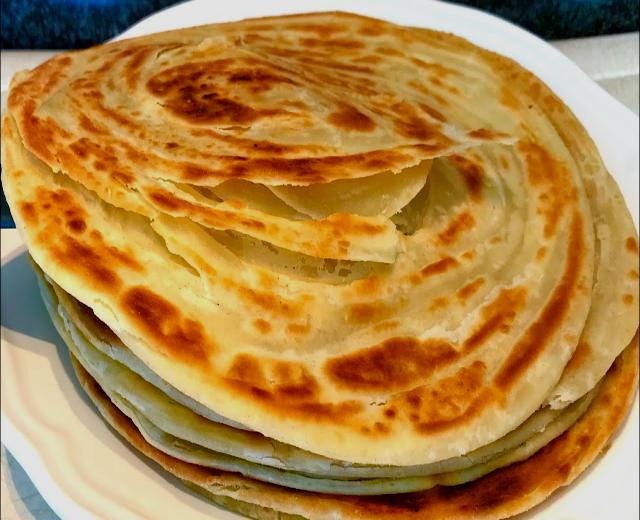chapati: (2, 12, 640, 519)
